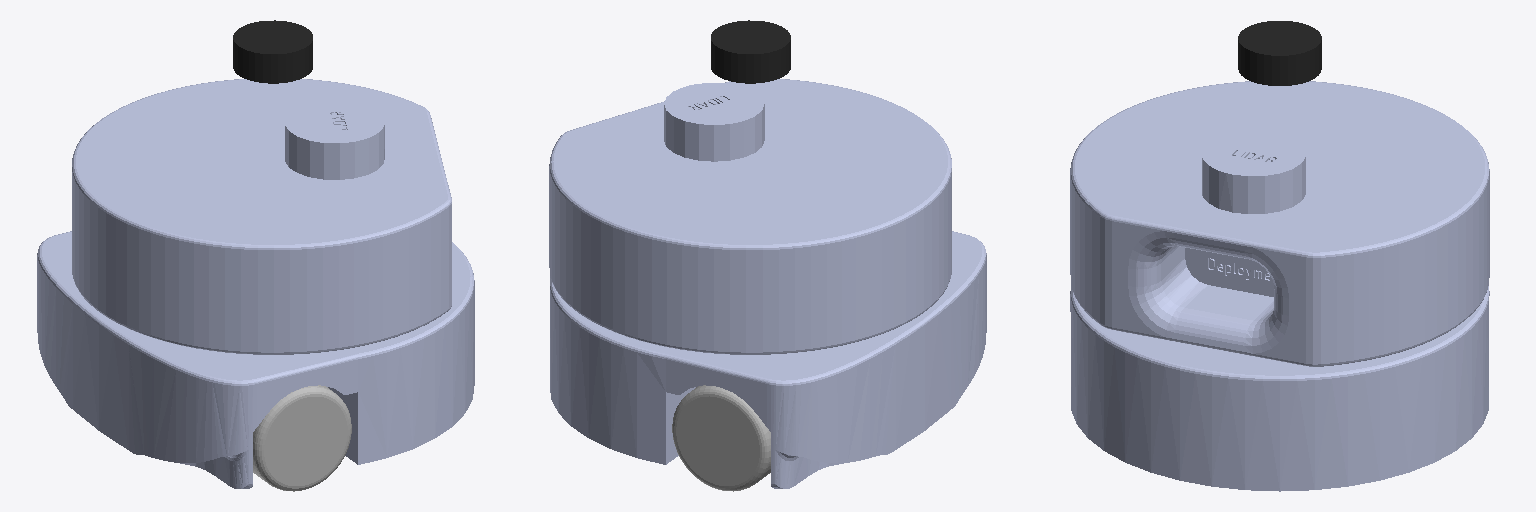
URDF robot description (ASS_Robot):
<?xml version="1.0" encoding="utf-8"?>
<!-- This URDF was automatically created by SolidWorks to URDF Exporter! Originally created by Stephen Brawner (brawner@gmail.com) 
     Commit Version: 1.6.0-4-g7f85cfe  Build Version: 1.6.7995.38578
     For more information, please see http://wiki.ros.org/sw_urdf_exporter -->
<robot
  name="ASS_Robot">
  <link
    name="base_link">
    <inertial>
      <origin
        xyz="0.0150421058918037 7.87415460802576E-06 -0.0694802702894512"
        rpy="0 0 0" />
      <mass
        value="28.8218329453164" />
      <inertia
        ixx="0.487581987962772"
        ixy="2.6462409224555E-05"
        ixz="0.00273098857312145"
        iyy="0.550268443099047"
        iyz="1.05480606357733E-06"
        izz="0.924041089909813" />
    </inertial>
    <visual>
      <origin
        xyz="0 0 0"
        rpy="0 0 0" />
      <geometry>
        <mesh
          filename="package://ass_robot_description/meshes/base_link.STL" />
      </geometry>
      <material
        name="">
        <color
          rgba="0.792156862745098 0.819607843137255 0.933333333333333 1" />
      </material>
    </visual>
    <collision>
      <origin
        xyz="0 0 0"
        rpy="0 0 0" />
      <geometry>
        <mesh
          filename="package://ass_robot_description/meshes/base_link.STL" />
      </geometry>
    </collision>
  </link>
  <link
    name="Left_wheel">
    <inertial>
      <origin
        xyz="0 0 -0.0387"
        rpy="0 0 0" />
      <mass
        value="1.17320543741845" />
      <inertia
        ixx="0.00198800277932776"
        ixy="0"
        ixz="0"
        iyy="0.00198800277932776"
        iyz="0"
        izz="0.00283501232765337" />
    </inertial>
    <visual>
      <origin
        xyz="0 0 0"
        rpy="0 -0.22305 0" />
      <geometry>
        <mesh
          filename="package://ass_robot_description/meshes/Left_wheel.STL" />
      </geometry>
      <material
        name="">
        <color
          rgba="0.752941176470588 0.752941176470588 0.752941176470588 1" />
      </material>
    </visual>
    <collision>
      <origin
        xyz="0 0 0"
        rpy="0 0 0" />
      <geometry>
        <cylinder radius="0.0695" length="0.05"/>
      </geometry>
    </collision>
  </link>
  <joint
    name="left_wheel_joint"
    type="continuous">
    <origin
      xyz="-0.073544 0.24905 -0.1"
      rpy="-1.5708 0 0" />
    <parent
      link="base_link" />
    <child
      link="Left_wheel" />
    <axis
      xyz="0 0 1" />
    <dynamics
      damping="0.1"
      friction="0.1" />
  </joint>
  <link
    name="Right_wheel">
    <inertial>
      <origin
        xyz="5.55111512312578E-17 0 0.0387"
        rpy="0 0 0" />
      <mass
        value="1.17320543741845" />
      <inertia
        ixx="0.00198800277932776"
        ixy="4.06575814682064E-19"
        ixz="2.98155597433514E-19"
        iyy="0.00198800277932776"
        iyz="-2.71050543121376E-19"
        izz="0.00283501232765337" />
    </inertial>
    <visual>
      <origin
        xyz="0 0 0"
        rpy="0 0 0" />
      <geometry>
        <mesh
          filename="package://ass_robot_description/meshes/Right_wheel.STL" />
      </geometry>
      <material
        name="">
        <color
          rgba="0.752941176470588 0.752941176470588 0.752941176470588 1" />
      </material>
    </visual>
    <collision>
      <origin
        xyz="0 0 0"
        rpy="0 0 0" />
      <geometry>
        <cylinder radius="0.0695" length="0.05"/>
      </geometry>
    </collision>
  </link>
  <joint
    name="right_wheel_joint"
    type="continuous">
    <origin
      xyz="-0.073544 -0.24905 -0.1"
      rpy="-1.5708 0 0" />
    <parent
      link="base_link" />
    <child
      link="Right_wheel" />
    <axis
      xyz="0 0 1" />
    <dynamics
      damping="0.1"
      friction="0.1" />
  </joint>
  <link
    name="Castor">
    <inertial>
      <origin
        xyz="-0.018216784333907 6.12481405370957E-07 -0.0496394726797626"
        rpy="0 0 0" />
      <mass
        value="0.0502982220794987" />
      <inertia
        ixx="2.10211254580428E-05"
        ixy="-7.4788853076431E-10"
        ixz="-3.69383064162082E-06"
        iyy="2.72371977958679E-05"
        iyz="-1.54428723768098E-09"
        izz="2.27374613649264E-05" />
    </inertial>
    <visual>
      <origin
        xyz="0 0 0"
        rpy="0 0 0" />
      <geometry>
        <mesh
          filename="package://ass_robot_description/meshes/Castor.STL" />
      </geometry>
      <material
        name="">
        <color
          rgba="0.792156862745098 0.819607843137255 0.933333333333333 1" />
      </material>
    </visual>
    <collision>
      <origin
        xyz="0 0 0"
        rpy="0 0 0" />
      <geometry>
        <mesh
          filename="package://ass_robot_description/meshes/Castor.STL" />
      </geometry>
    </collision>
  </link>
  <joint
    name="Castor_joint"
    type="continuous">
    <origin
      xyz="0.18479 0 -0.0752"
      rpy="0 0 0" />
    <parent
      link="base_link" />
    <child
      link="Castor" />
    <axis
      xyz="0 0 1" />
  </joint>
  <link
    name="Castor_Wheel">
    <inertial>
      <origin
        xyz="0 0 0"
        rpy="0 0 0" />
      <mass
        value="0.0467334599376183" />
      <inertia
        ixx="1.04416967249263E-05"
        ixy="3.17637355220363E-22"
        ixz="1.05879118406788E-21"
        iyy="1.04416967249263E-05"
        iyz="1.27054942088145E-21"
        izz="1.49696419566983E-05" />
    </inertial>
    <visual>
      <origin
        xyz="0 0 0"
        rpy="0 0 0" />
      <geometry>
        <mesh
          filename="package://ass_robot_description/meshes/Castor_Wheel.STL" />
      </geometry>
      <material
        name="">
        <color
          rgba="0.752941176470588 0.752941176470588 0.752941176470588 1" />
      </material>
    </visual>
    <collision>
      <origin
        xyz="0 0 0"
        rpy="0 0 0" />
      <geometry>
        <mesh
          filename="package://ass_robot_description/meshes/Castor_Wheel.STL" />
      </geometry>
    </collision>
  </link>
  <joint
    name="Castor_WheelLink"
    type="continuous">
    <origin
      xyz="-0.02 0 -0.0698"
      rpy="-1.5708 0 0" />
    <parent
      link="Castor" />
    <child
      link="Castor_Wheel" />
    <axis
      xyz="0 0 -1" />
    <dynamics
      damping="0.1"
      friction="0.1" />
  </joint>
  <link
    name="Upper_Swivel">
    <inertial>
      <origin
        xyz="-0.0134627540582945 0.00596515391221672 0.0772130322980163"
        rpy="0 0 0" />
      <mass
        value="27.6853568389625" />
      <inertia
        ixx="0.497938899929684"
        ixy="-0.0322428511237002"
        ixz="-0.00513742129672784"
        iyy="0.439455532873779"
        iyz="0.00227654026623388"
        izz="0.820571076943156" />
    </inertial>
    <visual>
      <origin
        xyz="0 0 0"
        rpy="0 0 0" />
      <geometry>
        <mesh
          filename="package://ass_robot_description/meshes/Upper_Swivel.STL" />
      </geometry>
      <material
        name="">
        <color
          rgba="0.792156862745098 0.819607843137255 0.933333333333333 1" />
      </material>
    </visual>
    <collision>
      <origin
        xyz="0 0 0"
        rpy="0 0 0" />
      <geometry>
        <mesh
          filename="package://ass_robot_description/meshes/Upper_Swivel.STL" />
      </geometry>
    </collision>
  </link>
  <joint
    name="Upper_swivel"
    type="continuous">
    <origin
      xyz="0.0232320933885067 0 0.0100000000000001"
      rpy="0 0 0" />
    <parent
      link="base_link" />
    <child
      link="Upper_Swivel" />
    <axis
      xyz="0 0 1" />
    <dynamics
      damping="5.0"
      friction="2.0" />
  </joint>

  <link name="lidar_link">
    <inertial>
      <mass value="0.1"/>
      <inertia ixx="1e-5" ixy="0" ixz="0" iyy="1e-5" iyz="0" izz="1e-5"/>
    </inertial>
    <visual>
      <geometry>
        <cylinder radius="0.05" length="0.04"/>
      </geometry>
      <material name="">
        <color rgba="0.2 0.2 0.2 1"/>
      </material>
    </visual>
    <collision>
      <geometry>
        <cylinder radius="0.05" length="0.04"/>
      </geometry>
    </collision>
  </link>

  <joint name="lidar_joint" type="fixed">
    <parent link="Upper_Swivel"/>
    <child link="lidar_link"/>
    <origin xyz="0 0 0.3" rpy="0 0 0"/>
  </joint>

  <gazebo reference="lidar_link">
    <sensor name="lidar_sensor" type="lidar">
      <always_on>true</always_on>
      <update_rate>10</update_rate>
      <topic>/scan</topic>
      <gz_frame_id>lidar_link</gz_frame_id>
      <ray>
        <scan>
          <horizontal>
            <samples>360</samples>
            <resolution>1</resolution>
            <min_angle>-3.14159</min_angle>
            <max_angle>3.14159</max_angle>
          </horizontal>
        </scan>
        <range>
          <min>0.12</min>
          <max>10.0</max>
          <resolution>0.01</resolution>
        </range>
      </ray>
    </sensor>
  </gazebo>

  <gazebo reference="Left_wheel">
    <collision><surface><friction><ode><mu>1.0</mu><mu2>1.0</mu2></ode></friction></surface></collision>
  </gazebo>
  <gazebo reference="Right_wheel">
    <collision><surface><friction><ode><mu>1.0</mu><mu2>1.0</mu2></ode></friction></surface></collision>
  </gazebo>

  <gazebo>
    <plugin filename="gz-sim-diff-drive-system" name="gz::sim::systems::DiffDrive">
      <left_joint>left_wheel_joint</left_joint>
      <right_joint>right_wheel_joint</right_joint>
      <wheel_separation>0.498</wheel_separation>
      <wheel_radius>0.0695</wheel_radius>
      <topic>cmd_vel</topic>
      <odom_topic>odom</odom_topic>
      <frame_id>odom</frame_id>
      <child_frame_id>base_link</child_frame_id>
      <max_linear_velocity>0.5</max_linear_velocity>
      <max_angular_velocity>0.5</max_angular_velocity>
    </plugin>
  </gazebo>

</robot>

--- Render facts (derived) ---
Views: 3 orthographic renders of the robot side by side, from view 1: azimuth 30°, elevation 25°; view 2: azimuth 150°, elevation 25°; view 3: azimuth 270°, elevation 25°.
Robot: ASS_Robot — 7 links, 6 joints (5 continuous, 1 fixed); root link base_link; default pose: all joints at 0.
Links seen in each view (by area): view 1: Upper_Swivel, base_link, Right_wheel, lidar_link; view 2: Upper_Swivel, base_link, Left_wheel, lidar_link; view 3: Upper_Swivel, base_link, lidar_link.
Boxes of the visible links, x1,y1,x2,y2 form: Upper_Swivel: [72, 79, 451, 354]; base_link: [37, 231, 474, 488]; Right_wheel: [253, 385, 351, 491]; lidar_link: [233, 20, 312, 83]; Upper_Swivel: [549, 79, 951, 354]; base_link: [550, 231, 986, 488]; Left_wheel: [672, 385, 770, 491]; lidar_link: [711, 20, 790, 83]; Upper_Swivel: [1070, 81, 1489, 366]; base_link: [1070, 286, 1489, 491]; lidar_link: [1238, 21, 1321, 85].
Size in the robot's own frame: 0.5 by 0.5 by 0.5 metres.
Meshes: 6 distinct files referenced, 6 mesh visuals loaded (6 binary STL).
